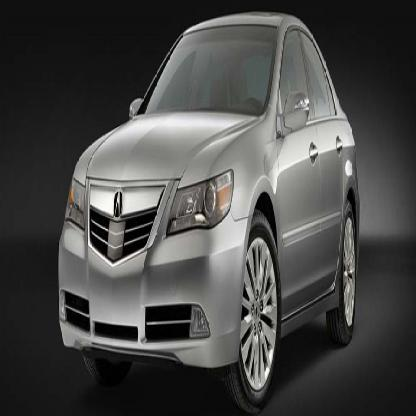Vehicle: (56, 12, 364, 415)
